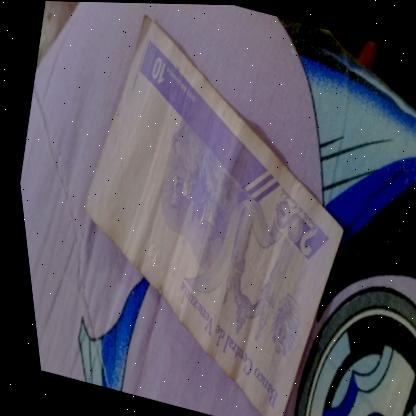ten-back-vef: (19, 4, 395, 416)
